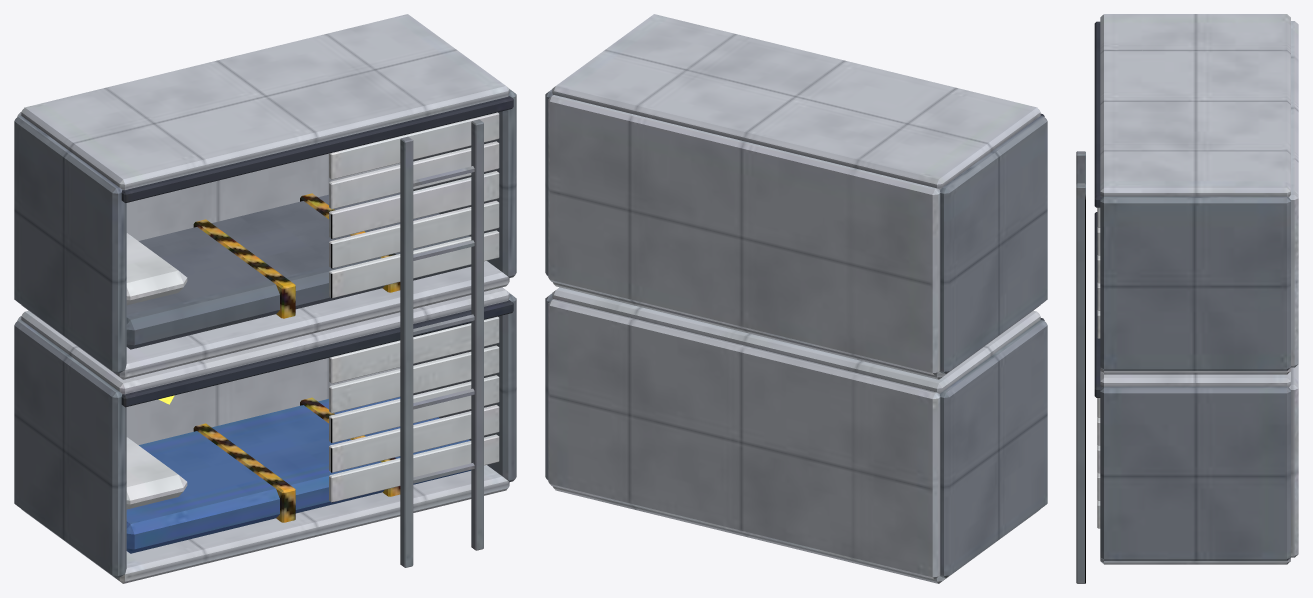
Rendered from bunk-pod.glb.
The picture shows the model from 3 angles, left to right: view 1: azimuth 30°, elevation 25°; view 2: azimuth 150°, elevation 25°; view 3: azimuth 270°, elevation 25°; orthographic projection. The views are drawn at different scales.
Parts seen in each view (by area): view 1: UpperRoof, LowerEndL, UpperEndL, UpperMattress, LowerMattress, LowerShell, UpperShell, UpperBack, LowerBack, LowerRoof, LadderRailR, LadderRailL (+18 smaller); view 2: UpperBack, LowerBack, UpperRoof, LowerEndL, UpperEndL, LowerRoof, LowerShell, UpperShell, LowerEndR, UpperEndR; view 3: UpperRoof, UpperEndR, LowerEndR, LadderRailL, UpperBack, LowerRoof, LowerBack, UpperShutterRail, LowerShutterRail, LowerShell, UpperShell, LadderRailR.
Boxes of the visible parts, <box> form: UpperRoof: <box>21,14,509,189</box>; LowerEndL: <box>14,320,126,578</box>; UpperEndL: <box>14,116,126,373</box>; UpperMattress: <box>126,193,471,349</box>; LowerMattress: <box>126,397,471,553</box>; LowerShell: <box>21,465,509,583</box>; UpperShell: <box>21,261,509,379</box>; UpperBack: <box>17,112,400,240</box>; LowerBack: <box>17,316,400,445</box>; LowerRoof: <box>21,287,509,394</box>; LadderRailR: <box>400,136,413,567</box>; LadderRailL: <box>471,119,483,550</box>; UpperBack: <box>548,95,940,375</box>; LowerBack: <box>548,299,940,579</box>; UpperRoof: <box>552,14,1040,189</box>; LowerEndL: <box>939,320,1047,578</box>; UpperEndL: <box>939,116,1047,373</box>; LowerRoof: <box>552,287,1040,393</box>; LowerShell: <box>553,486,1040,583</box>; UpperShell: <box>553,282,1040,379</box>; LowerEndR: <box>545,293,552,480</box>; UpperEndR: <box>545,89,552,276</box>; UpperRoof: <box>1100,14,1290,197</box>; UpperEndR: <box>1100,196,1290,370</box>; LowerEndR: <box>1100,386,1290,560</box>; LadderRailL: <box>1076,183,1085,583</box>; UpperBack: <box>1289,21,1298,367</box>; LowerRoof: <box>1100,371,1290,387</box>; LowerBack: <box>1289,364,1298,557</box>; UpperShutterRail: <box>1094,21,1101,207</box>; LowerShutterRail: <box>1094,212,1101,397</box>; LowerShell: <box>1100,558,1290,564</box>; UpperShell: <box>1100,367,1290,374</box>; LadderRailR: <box>1076,151,1085,183</box>.
Bounding box in the file's own units: 2.28 × 2.39 × 1.17.
10 materials, 10 textured.
